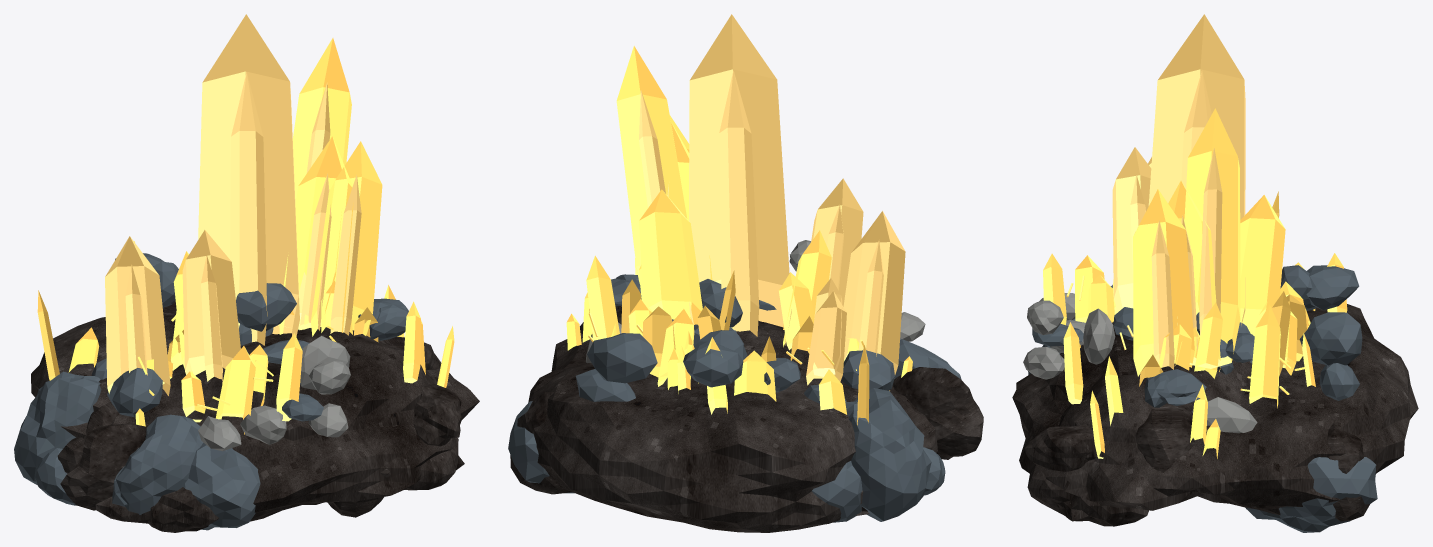
File: minerio_ouro.glb
The picture shows the model from 3 angles, left to right: view 1: azimuth 30°, elevation 25°; view 2: azimuth 150°, elevation 25°; view 3: azimuth 270°, elevation 25°; orthographic projection.
Visible parts, largest first — view 1: ouro_rock_core, ouro_hero_crystal_00, ouro_internal_crystal_00, ouro_hero_crystal_03, ouro_hero_crystal_04, ouro_fractured_boulder_00, ouro_fractured_boulder_09, ouro_hero_crystal_05, ouro_hero_crystal_01, ouro_fractured_boulder_12, ouro_fractured_boulder_11, ouro_hero_crystal_02 (+30 smaller); view 2: ouro_rock_core, ouro_hero_crystal_00, ouro_fractured_boulder_09, ouro_internal_crystal_00, ouro_hero_crystal_01, ouro_hero_crystal_06, ouro_hero_crystal_04, ouro_fractured_boulder_11, ouro_mineralized_stone_shard_13, ouro_hero_crystal_05, ouro_hero_crystal_09, ouro_mineralized_stone_shard_09 (+28 smaller); view 3: ouro_rock_core, ouro_hero_crystal_00, ouro_hero_crystal_01, ouro_hero_crystal_03, ouro_hero_crystal_06, ouro_fractured_boulder_18, ouro_hero_crystal_05, ouro_fractured_boulder_01, ouro_fractured_boulder_05, ouro_internal_crystal_01, ouro_fractured_boulder_10, ouro_mineralized_stone_shard_13 (+31 smaller).
Part boxes in pixels (box(x1,y1,x2,y2)): ouro_rock_core: box(31, 301, 479, 521); ouro_hero_crystal_00: box(198, 14, 299, 336); ouro_internal_crystal_00: box(230, 72, 267, 345); ouro_hero_crystal_03: box(311, 141, 382, 336); ouro_hero_crystal_04: box(105, 236, 170, 395); ouro_fractured_boulder_00: box(116, 414, 203, 515); ouro_fractured_boulder_09: box(14, 371, 101, 484); ouro_hero_crystal_05: box(182, 230, 240, 375); ouro_hero_crystal_01: box(278, 38, 351, 329); ouro_fractured_boulder_12: box(183, 443, 260, 530); ouro_fractured_boulder_11: box(60, 423, 146, 510); ouro_hero_crystal_02: box(283, 136, 353, 332); ouro_rock_core: box(528, 320, 917, 532); ouro_hero_crystal_00: box(689, 14, 791, 345); ouro_fractured_boulder_09: box(845, 388, 931, 521); ouro_internal_crystal_00: box(719, 70, 759, 336); ouro_hero_crystal_01: box(616, 46, 687, 292); ouro_hero_crystal_06: box(639, 189, 702, 324); ouro_hero_crystal_04: box(843, 211, 905, 390); ouro_fractured_boulder_11: box(892, 367, 983, 456); ouro_mineralized_stone_shard_13: box(587, 333, 657, 383); ouro_hero_crystal_05: box(811, 178, 863, 306); ouro_hero_crystal_09: box(806, 291, 846, 385); ouro_mineralized_stone_shard_09: box(683, 340, 743, 387); ouro_rock_core: box(1012, 304, 1418, 515); ouro_hero_crystal_00: box(1148, 14, 1245, 325); ouro_hero_crystal_01: box(1184, 108, 1240, 368); ouro_hero_crystal_03: box(1133, 189, 1194, 376); ouro_hero_crystal_06: box(1240, 195, 1285, 335); ouro_fractured_boulder_18: box(1245, 457, 1377, 532); ouro_hero_crystal_05: box(1112, 147, 1151, 312); ouro_fractured_boulder_01: box(1135, 403, 1194, 472); ouro_fractured_boulder_05: box(1027, 463, 1148, 526); ouro_internal_crystal_01: box(1199, 148, 1222, 335); ouro_fractured_boulder_10: box(1025, 424, 1097, 471); ouro_mineralized_stone_shard_13: box(1299, 312, 1362, 365).
Size of the model in its own units: 2.25 by 2.48 by 1.95.
7 materials, 1 textured.
